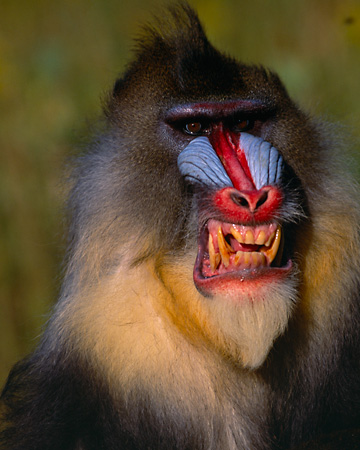Mandrill: (100, 50, 335, 416)
